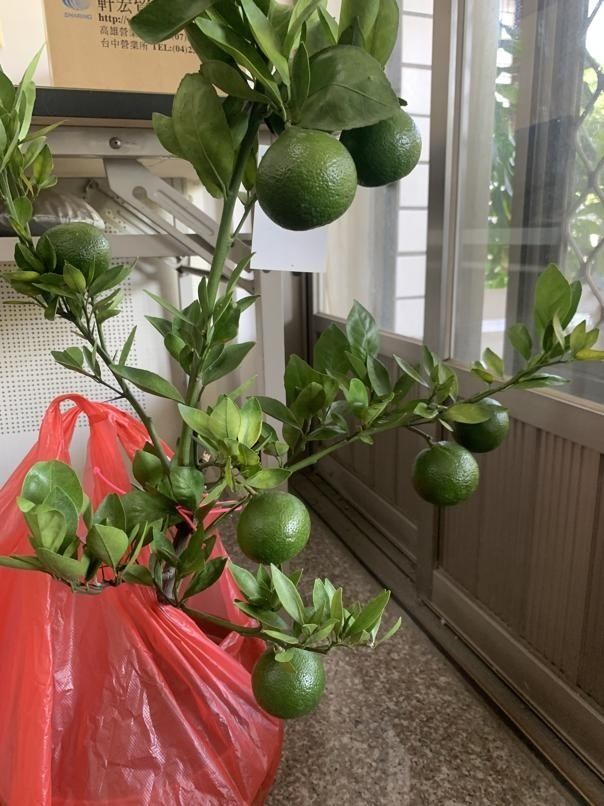Tangerine: (259, 124, 359, 231), (341, 109, 423, 186), (248, 641, 326, 720), (235, 493, 312, 562), (409, 436, 483, 505), (458, 397, 509, 450)
